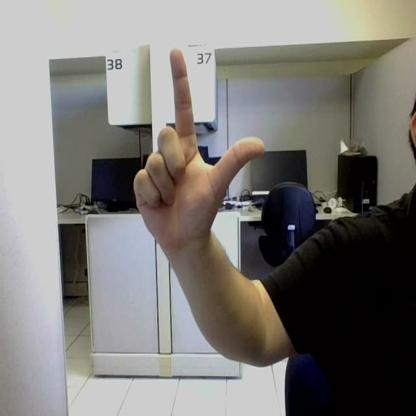L: (134, 49, 264, 251)
